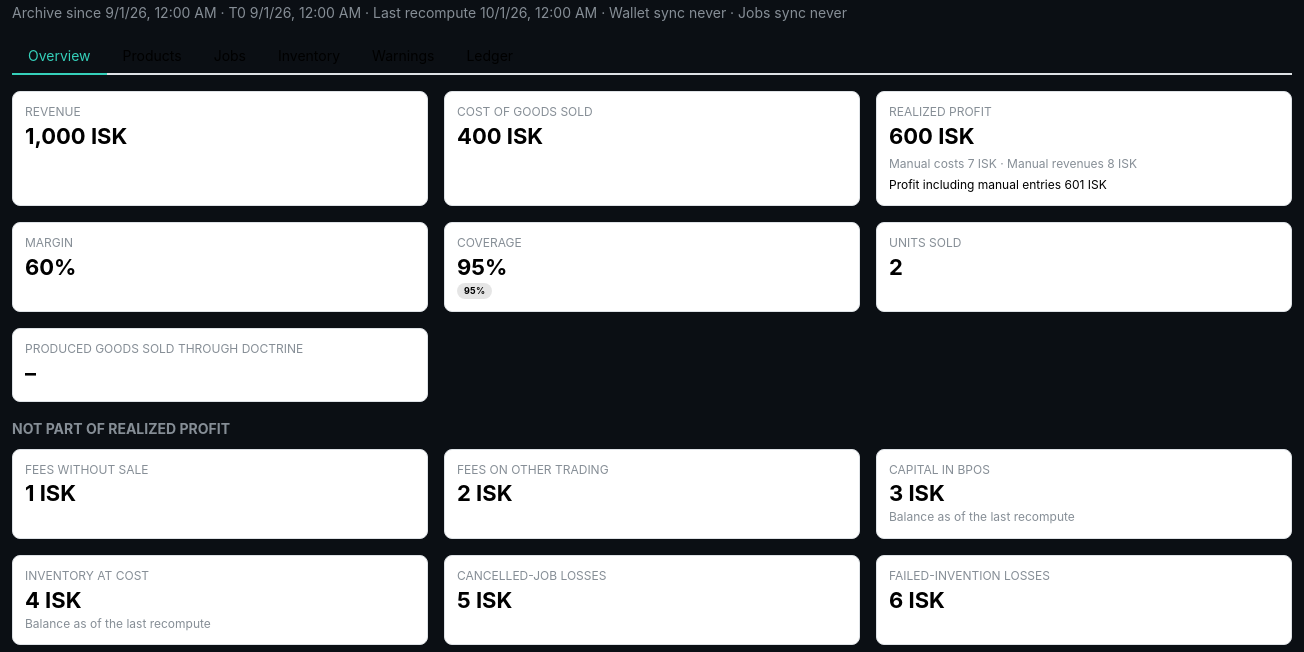
RealizedProfit › shows the shipment list, the reward gap and a reward without courier details
The width and height of the screenshot is (1304, 652).
Click the tab "Ledger": (490, 57) [450,39,529,75]
(page scrolled)
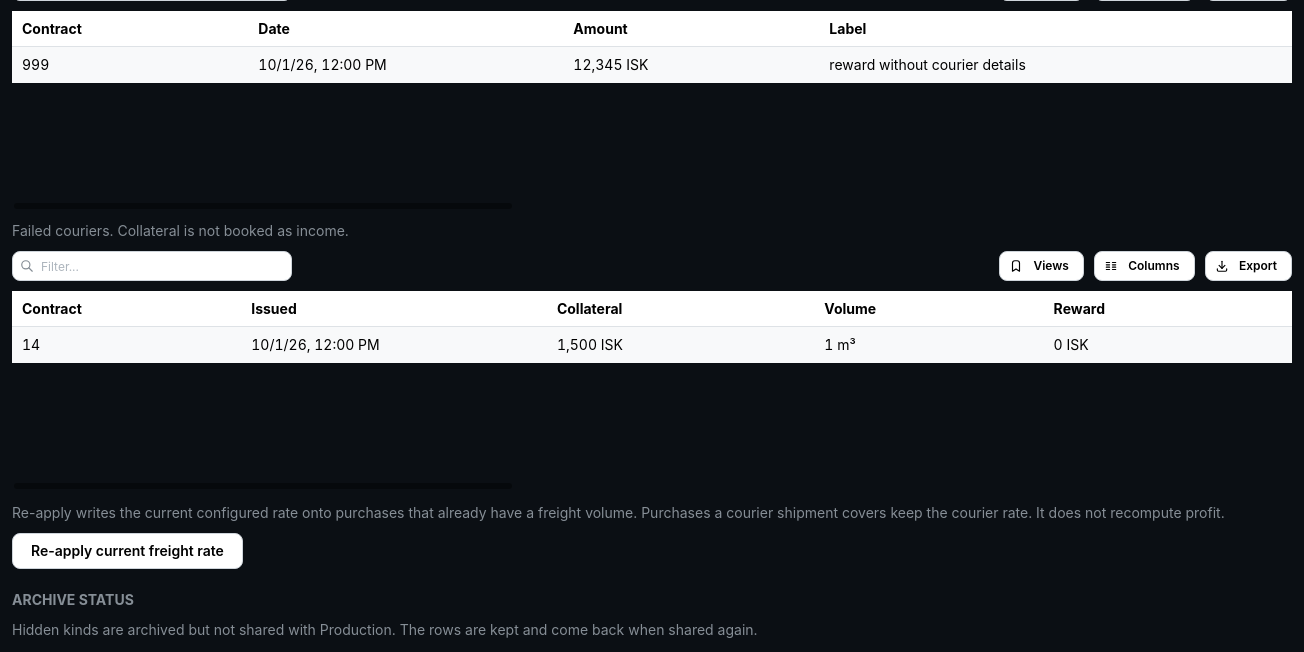
expect the text "reward without courier details" is shown: met, box [819,47,1292,83]
expect the text "1,500 ISK" is shown: met, box [547,327,814,363]
